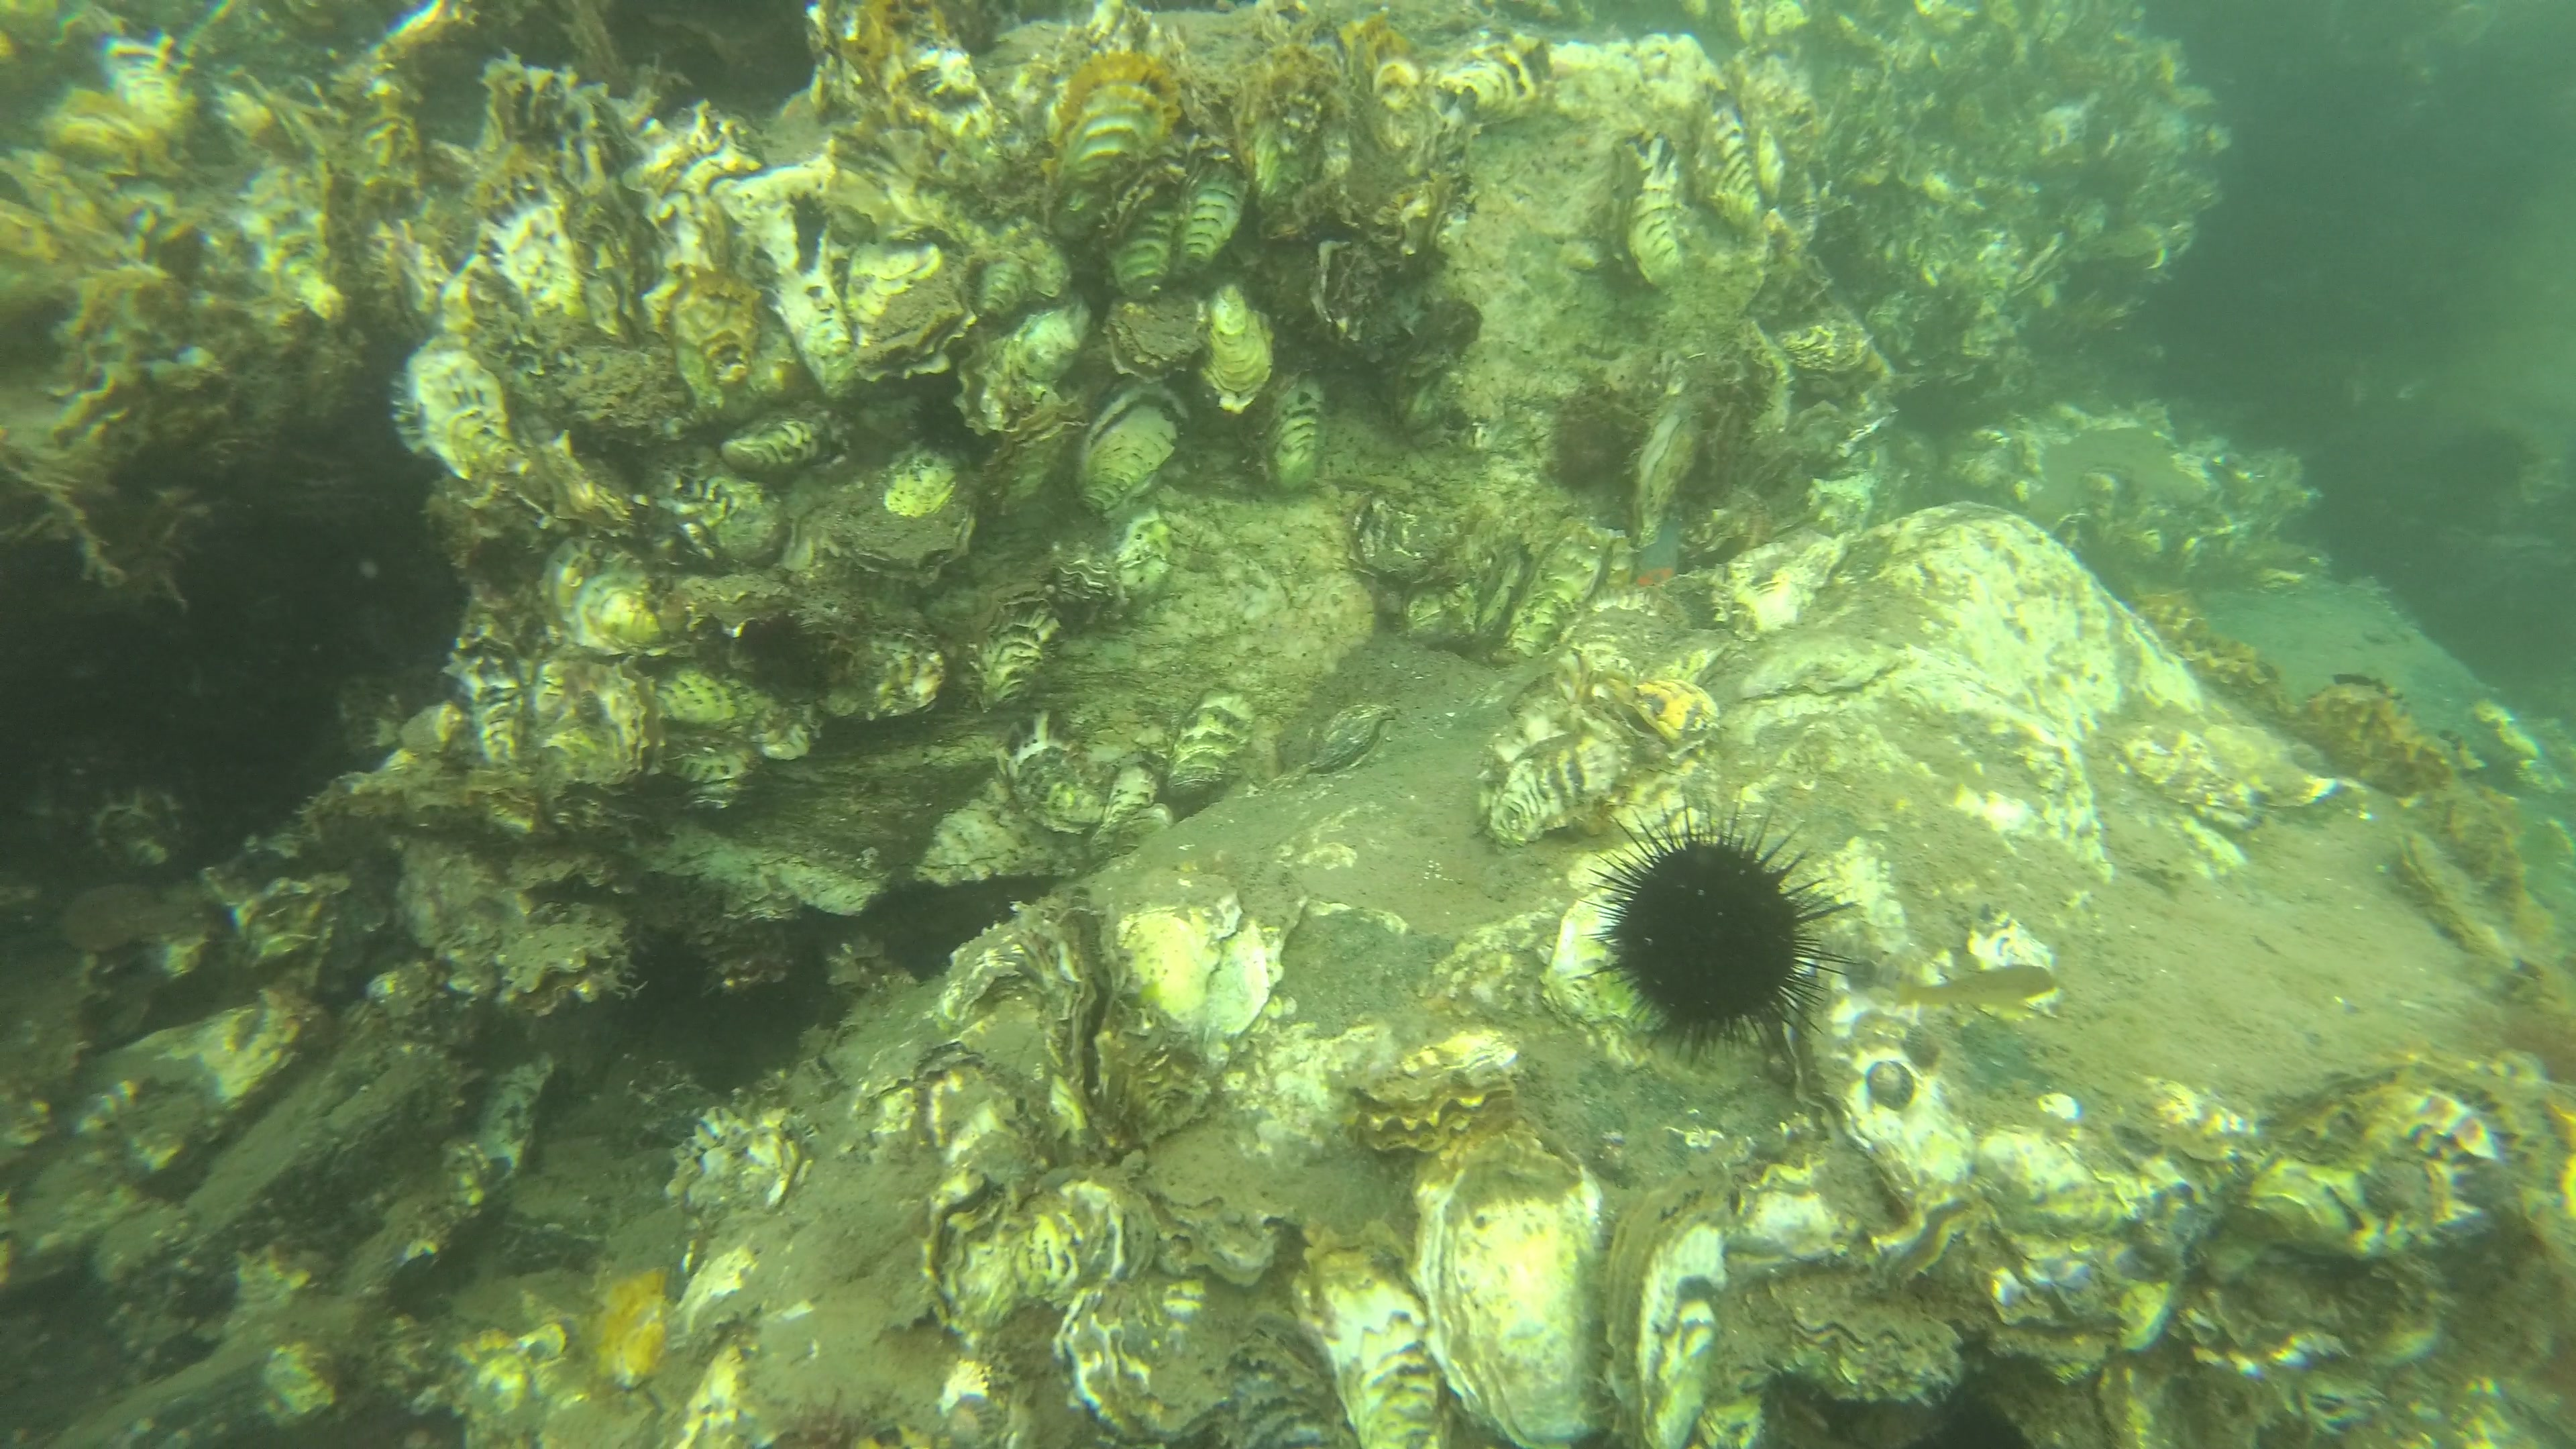echinus: (1585, 791, 1856, 1063), (2436, 421, 2534, 502)
starfish: (1631, 511, 1684, 605)
